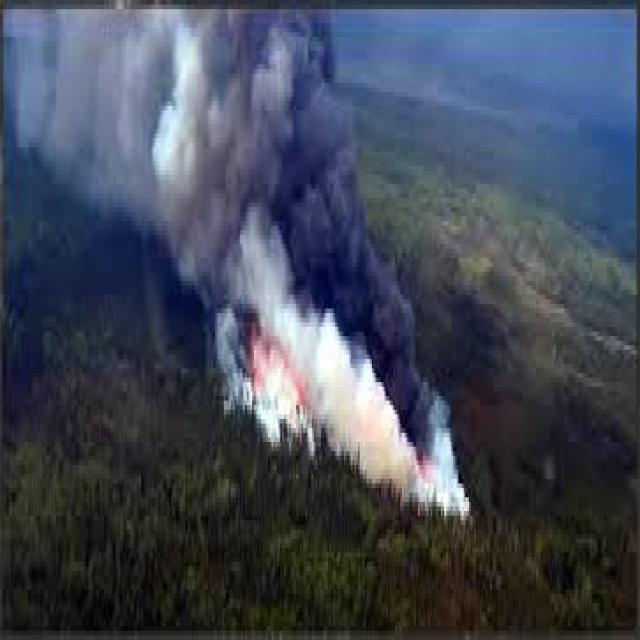Fire: (228, 264, 302, 428), (389, 422, 445, 512)
Smoke: (8, 0, 354, 228), (306, 244, 388, 482)
